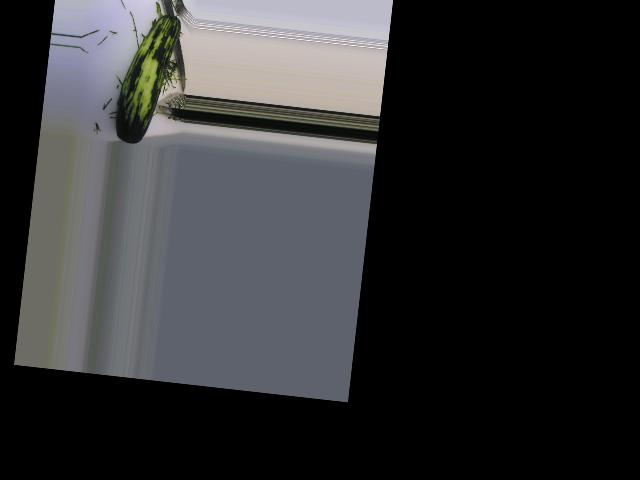cucumber: (113, 9, 182, 147)
